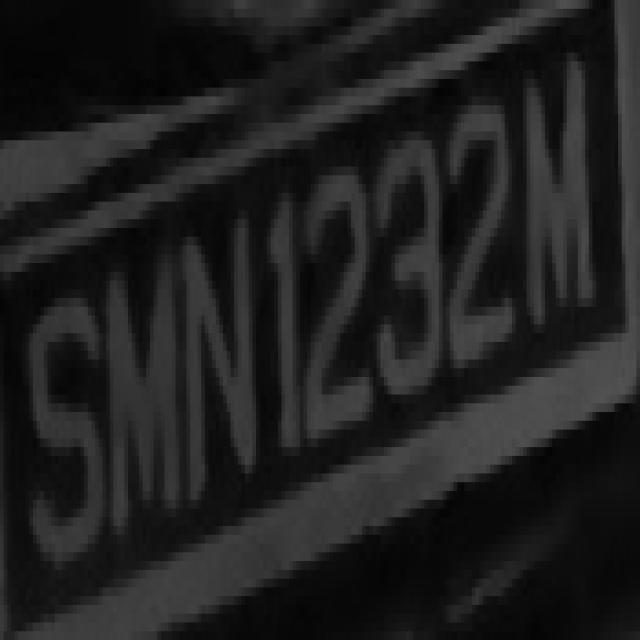1: (260, 193, 311, 482)
2: (432, 96, 516, 386), (304, 140, 373, 465)
3: (362, 123, 454, 430)
M: (505, 44, 607, 333), (91, 236, 183, 544)
N: (165, 184, 256, 482)
S: (18, 281, 99, 614)
